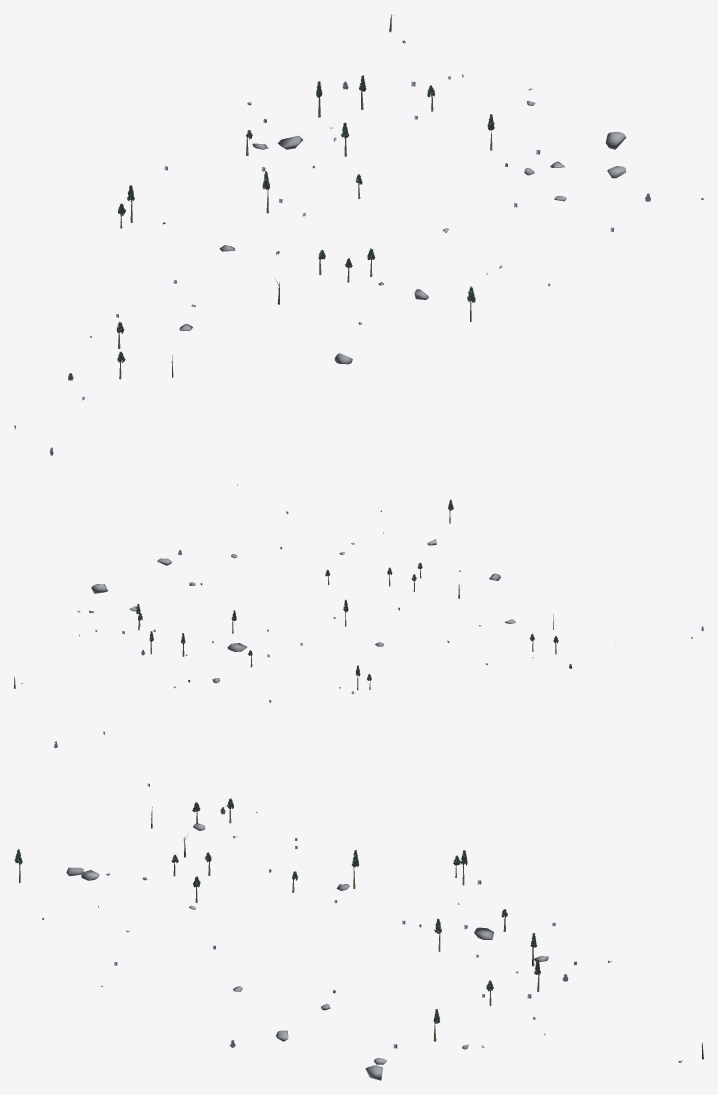
Rendered from frost_land_scatter_c18_11_lod1.glb.
3 views of the same model, one above another, from view 1: azimuth 30°, elevation 25°; view 2: azimuth 150°, elevation 25°; view 3: azimuth 270°, elevation 25° (orthographic). The views are drawn at different scales.
Visible parts, largest first — view 1: frost_land_scatter_c18_11_lod1; view 2: frost_land_scatter_c18_11_lod1; view 3: frost_land_scatter_c18_11_lod1.
Boxes of the visible parts, box(x1,y1,x2,y2) form: frost_land_scatter_c18_11_lod1: box(14, 14, 703, 455); frost_land_scatter_c18_11_lod1: box(14, 484, 703, 702); frost_land_scatter_c18_11_lod1: box(14, 731, 703, 1080).
Size of the model in its own units: 228 by 29.87 by 193.
